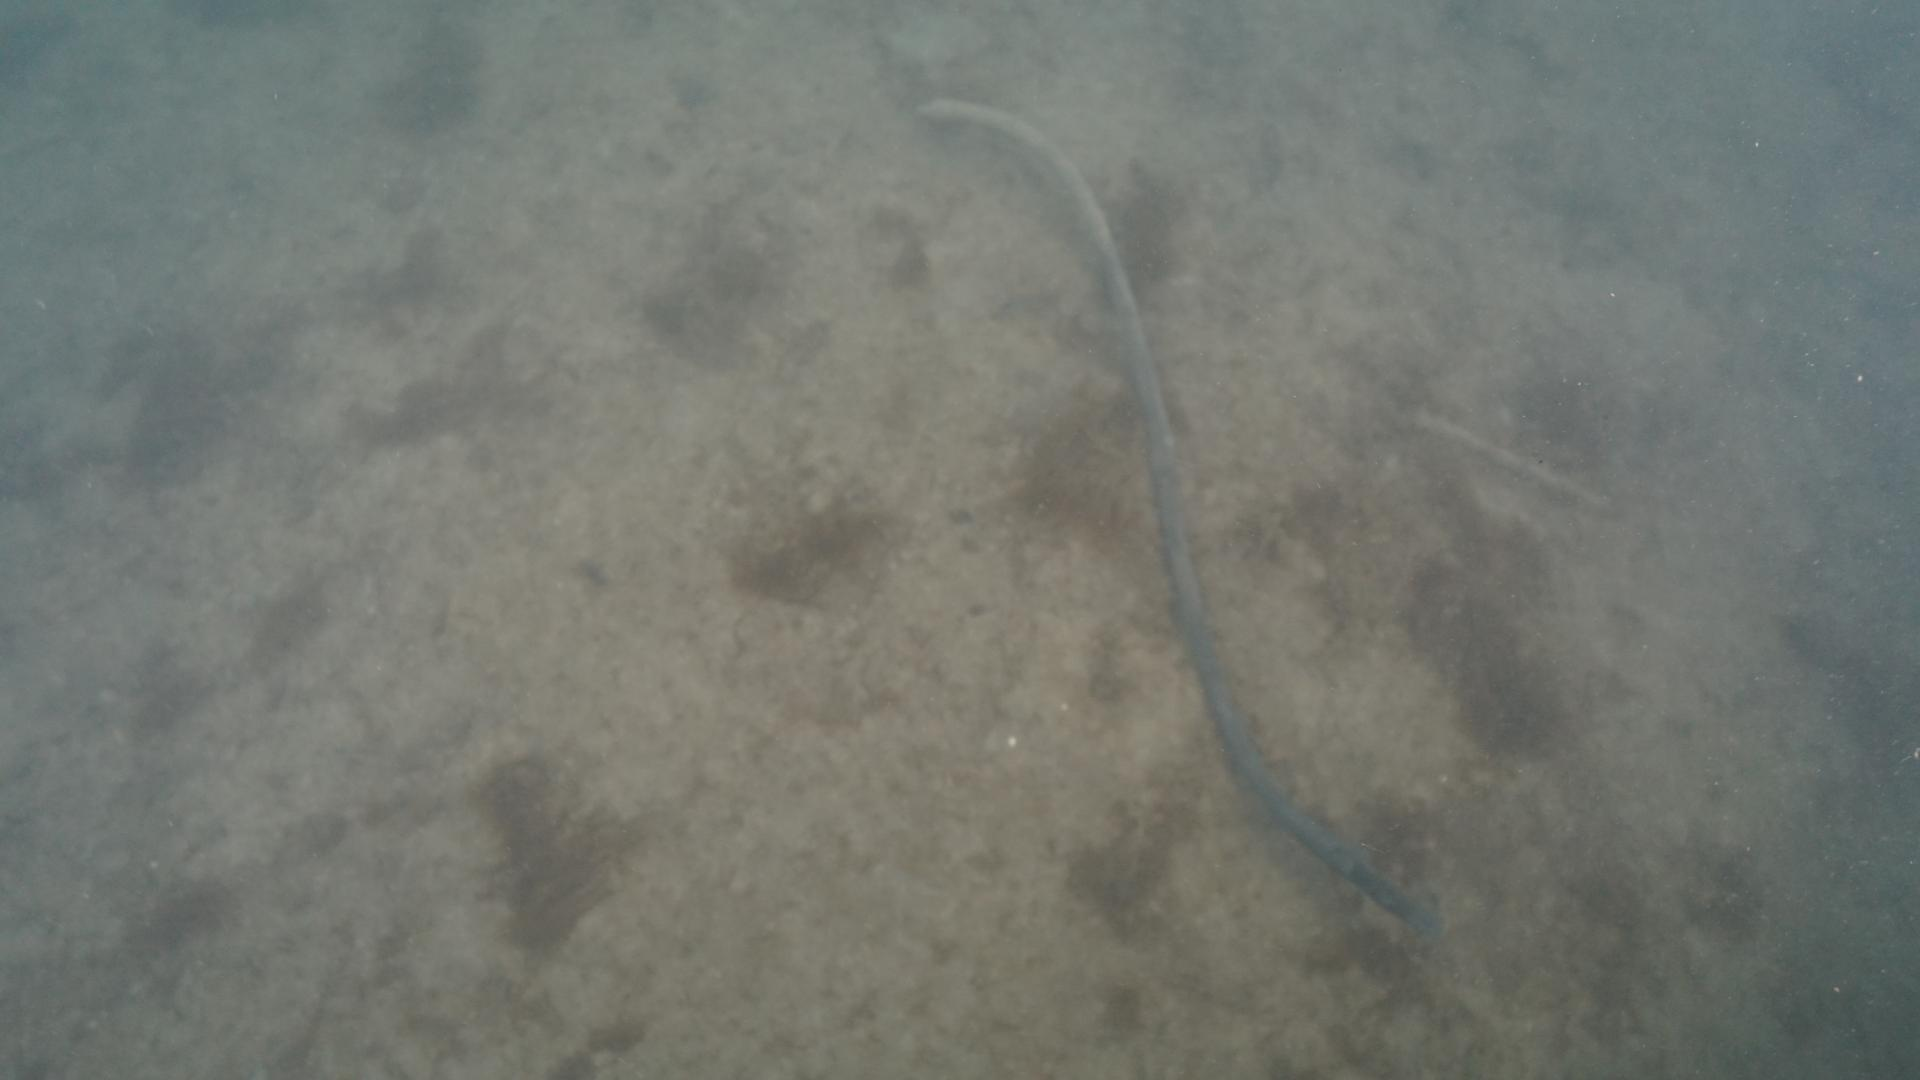wood: (909, 103, 1414, 914)
